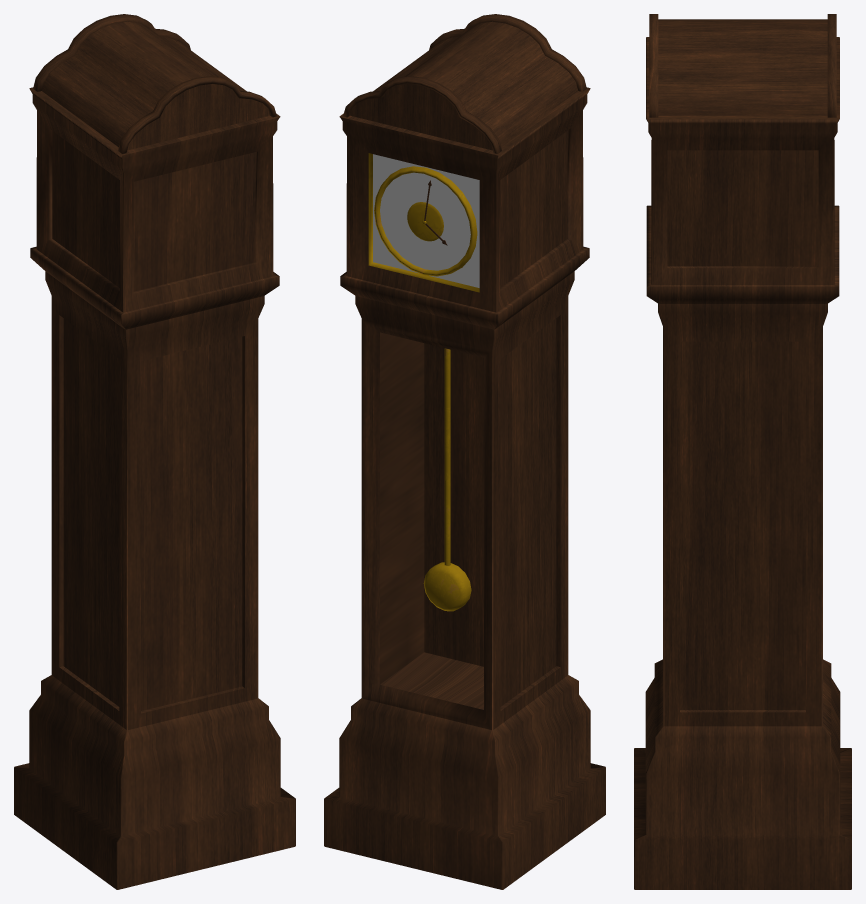
The model's file is grandfatherClock_v002.fbx.
3 views of the same model, side by side, from view 1: azimuth 30°, elevation 25°; view 2: azimuth 150°, elevation 25°; view 3: azimuth 270°, elevation 25° (orthographic). The views are drawn at different scales.
Parts seen in each view (by area): view 1: clock_grandfather; view 2: clock_grandfather; view 3: clock_grandfather.
Boxes of the visible parts, bbox=[...] form: clock_grandfather: bbox=[14, 14, 295, 889]; clock_grandfather: bbox=[324, 14, 605, 889]; clock_grandfather: bbox=[634, 14, 851, 889].
Bounding box in the file's own units: 54.35 × 227 × 54.35.
